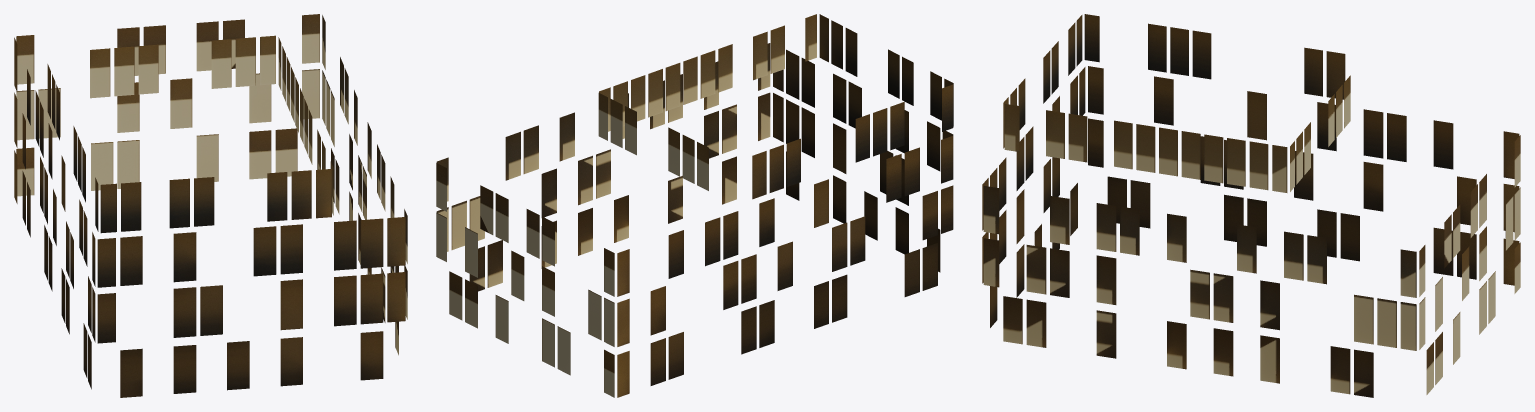
File: Building_07_Glass.fbx
3 renders of one model, left to right at view 1: azimuth 30°, elevation 25°; view 2: azimuth 150°, elevation 25°; view 3: azimuth 270°, elevation 25°, orthographic. The views are drawn at different scales.
Visible parts, largest first — view 1: Building_07_Glass; view 2: Building_07_Glass; view 3: Building_07_Glass.
Boxes of the visible parts, <box> form: Building_07_Glass: <box>14,14,407,397</box>; Building_07_Glass: <box>436,14,953,397</box>; Building_07_Glass: <box>982,14,1520,397</box>.
Size of the model in its own units: 22.01 by 11.35 by 26.94.
Materials: 1 (1 with a texture image).
